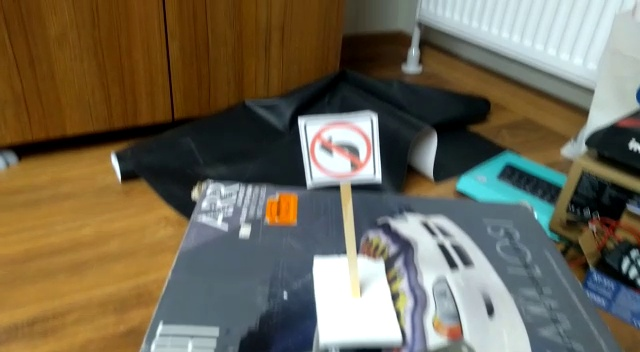sola_donulmez: (310, 112, 374, 184)
